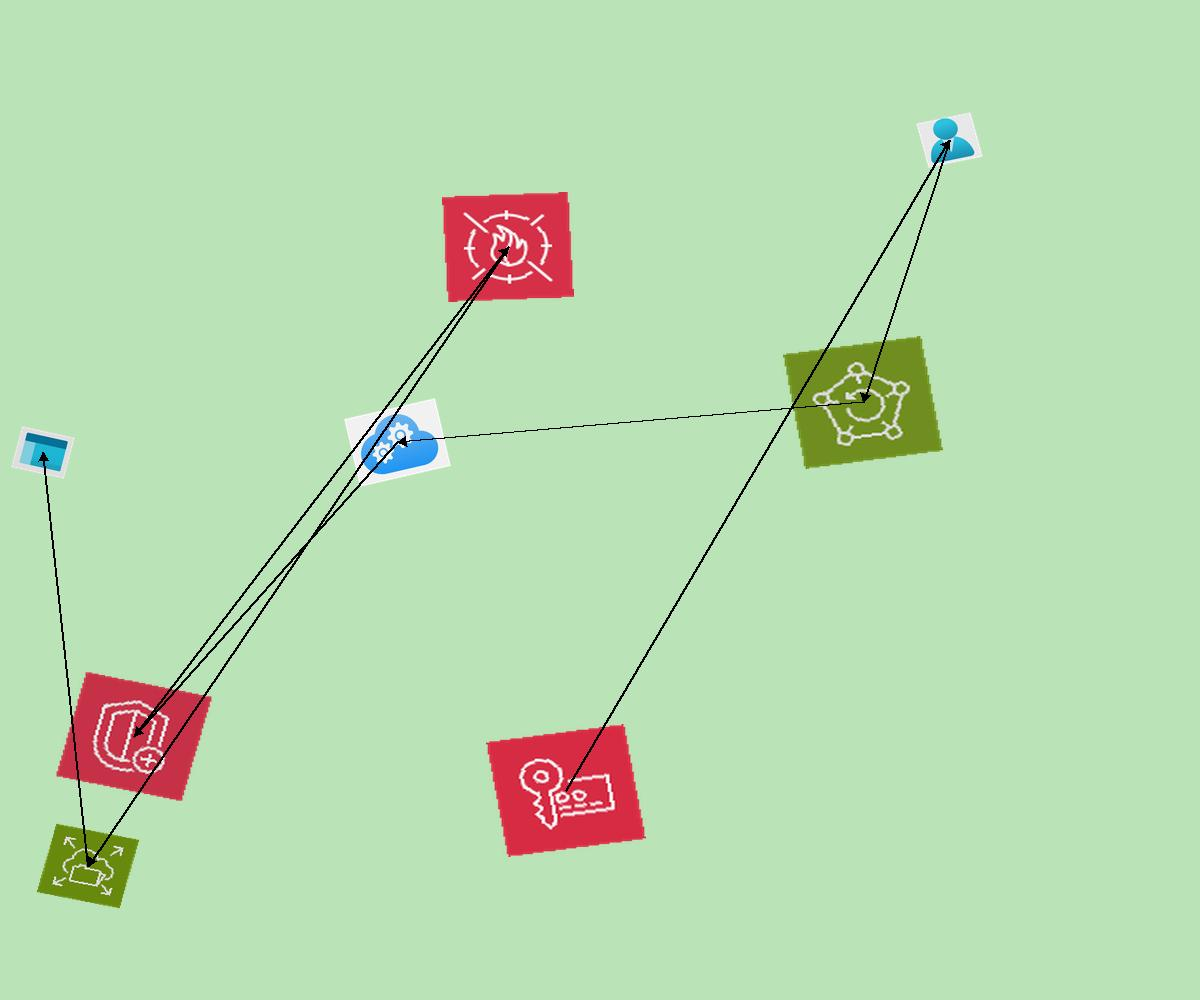AWS-Backup: (783, 336, 943, 469)
AWS-EFS: (36, 823, 140, 909)
AWS-Key-Management-Service: (486, 724, 646, 857)
AWS-Shield: (55, 671, 213, 802)
AWS-WAF: (442, 192, 574, 302)
Azure_cloud_services: (344, 398, 451, 487)
Azure_management-portal: (11, 426, 75, 479)
Azure_users: (916, 112, 983, 168)
